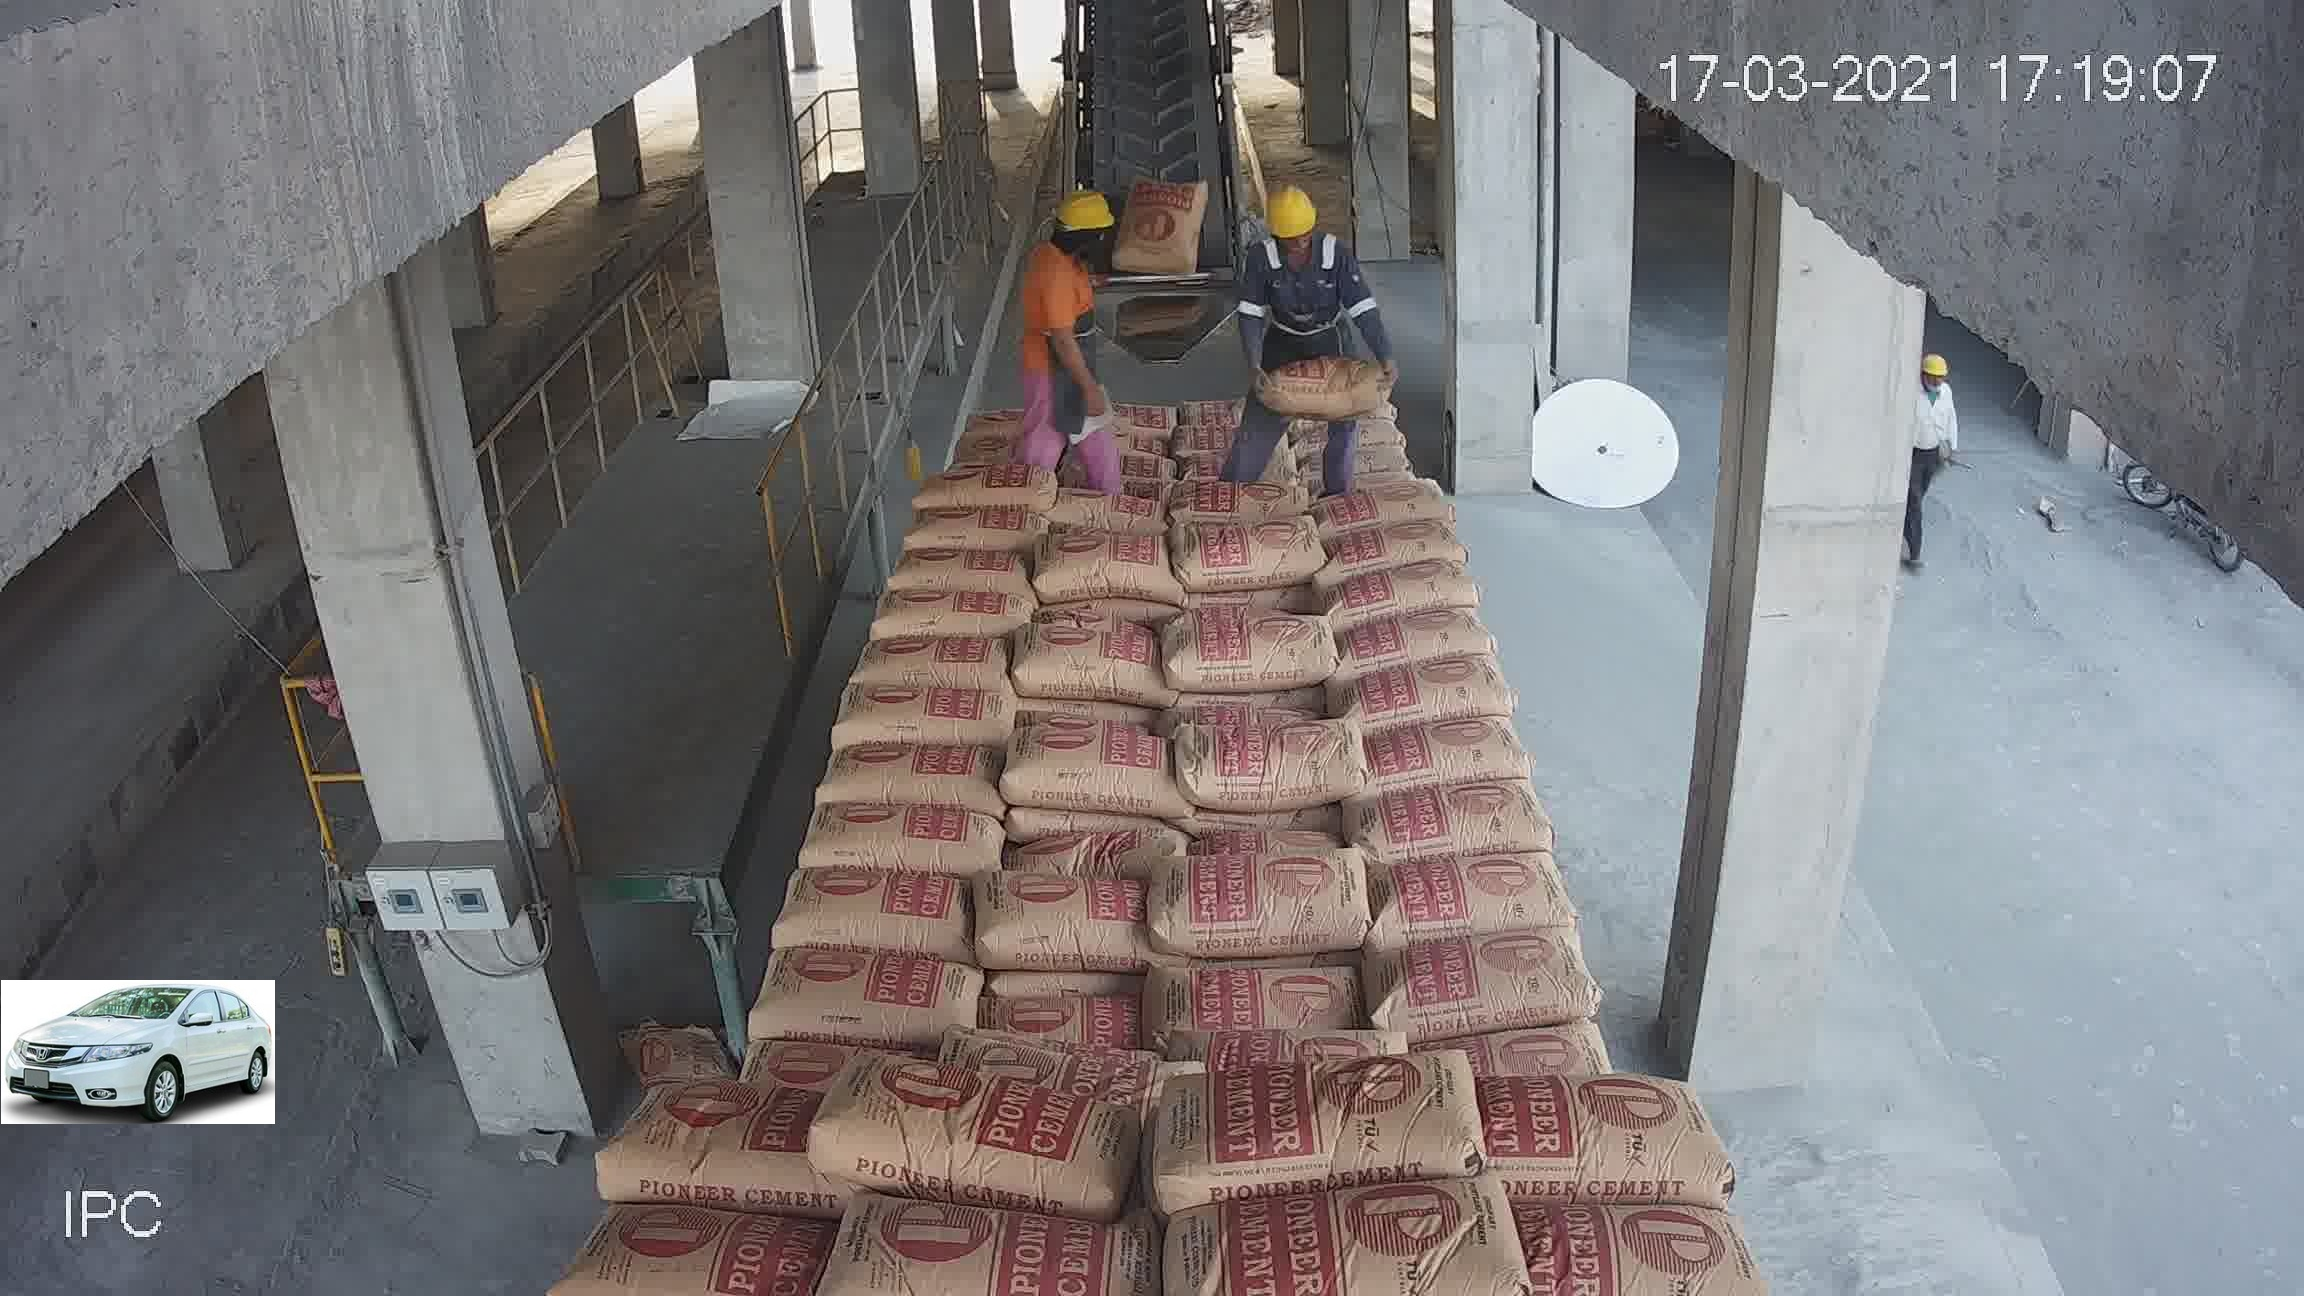bag: (1116, 177, 1209, 275)
bag_h: (1147, 1051, 1473, 1212), (828, 1048, 1135, 1215), (1176, 1176, 1510, 1296), (604, 1086, 813, 1215), (1495, 1079, 1726, 1195), (829, 1201, 1154, 1282), (1396, 919, 1600, 1040), (1150, 851, 1370, 957), (1522, 1196, 1755, 1290), (748, 951, 983, 1041), (949, 859, 1146, 964), (1385, 853, 1578, 948), (1361, 779, 1544, 877), (809, 722, 1002, 812), (1185, 707, 1370, 801), (772, 866, 978, 949), (555, 1222, 782, 1293), (1337, 657, 1524, 742), (802, 796, 1013, 869), (1158, 608, 1343, 687), (1010, 726, 1173, 810), (1176, 510, 1323, 598), (1166, 954, 1350, 1024), (824, 680, 1014, 744), (1380, 714, 1529, 791), (943, 1029, 1157, 1082), (1025, 529, 1166, 608), (1339, 549, 1473, 631), (1005, 809, 1177, 872), (1347, 597, 1503, 666), (972, 986, 1138, 1049), (1025, 617, 1166, 692), (824, 628, 1013, 684), (1332, 514, 1480, 582), (1465, 1013, 1609, 1081), (1253, 343, 1393, 413), (858, 585, 1025, 639), (1182, 1022, 1402, 1060), (886, 551, 1041, 603), (1168, 468, 1309, 525), (896, 498, 1040, 552), (1051, 475, 1173, 535), (1331, 479, 1451, 540), (904, 453, 1049, 500), (1103, 408, 1201, 443)
belt: (1046, 24, 1244, 328)
